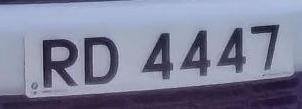4: (138, 24, 178, 88), (176, 21, 215, 82), (215, 21, 251, 77)
7: (248, 17, 285, 79)
D: (79, 33, 125, 88)
R: (38, 34, 81, 92)
